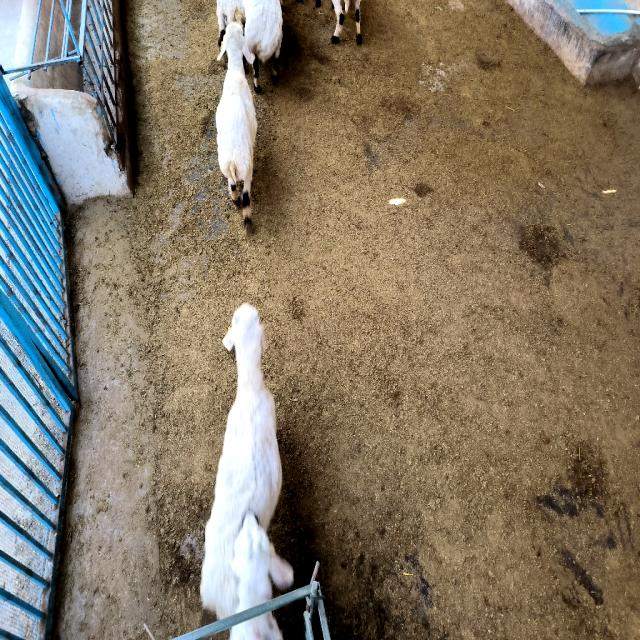sheep: (200, 303, 282, 620), (216, 22, 258, 231), (242, 0, 282, 92), (216, 0, 245, 46), (331, 0, 344, 42), (354, 0, 361, 42), (344, 0, 350, 12)
